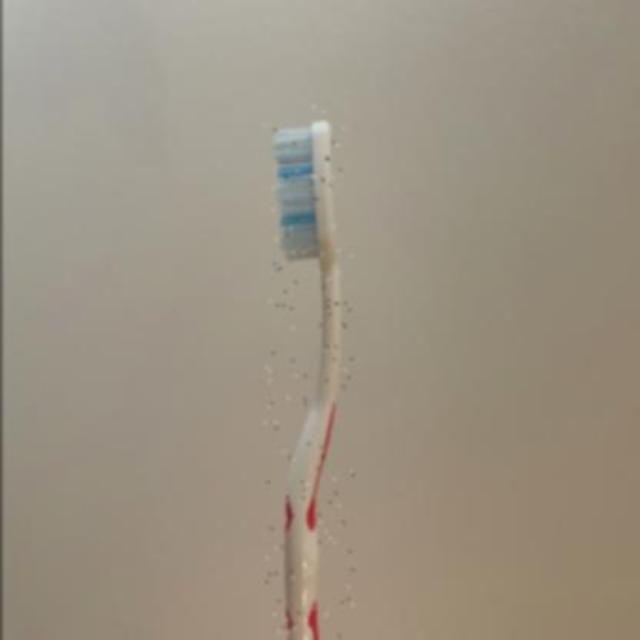toothbrush: (262, 105, 352, 640)
